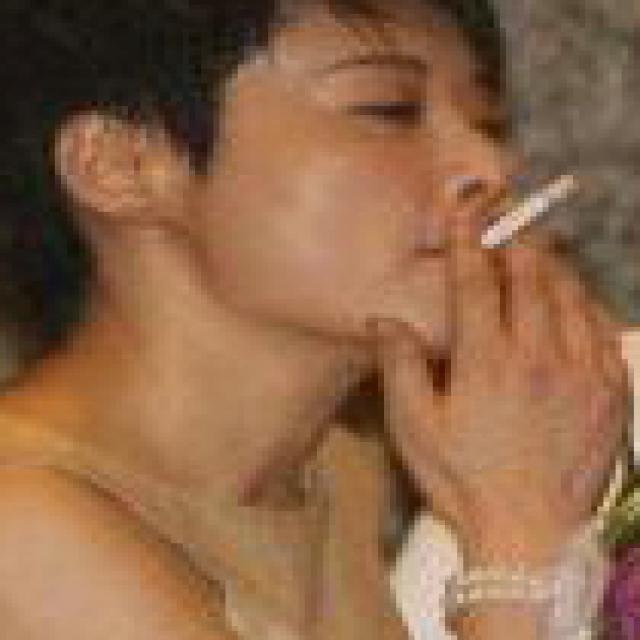smoking: (481, 176, 582, 253)
